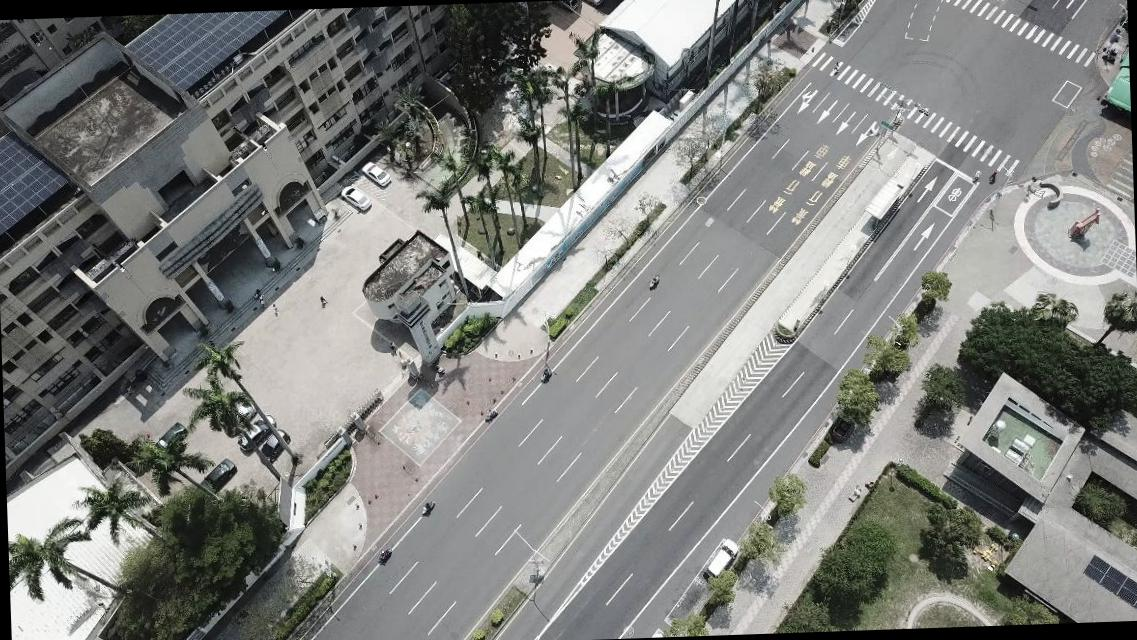vehicle: (238, 414, 278, 454), (150, 422, 186, 458), (199, 458, 238, 491), (705, 538, 738, 576), (224, 396, 256, 433), (260, 431, 290, 462), (340, 186, 372, 214), (360, 161, 392, 187)
